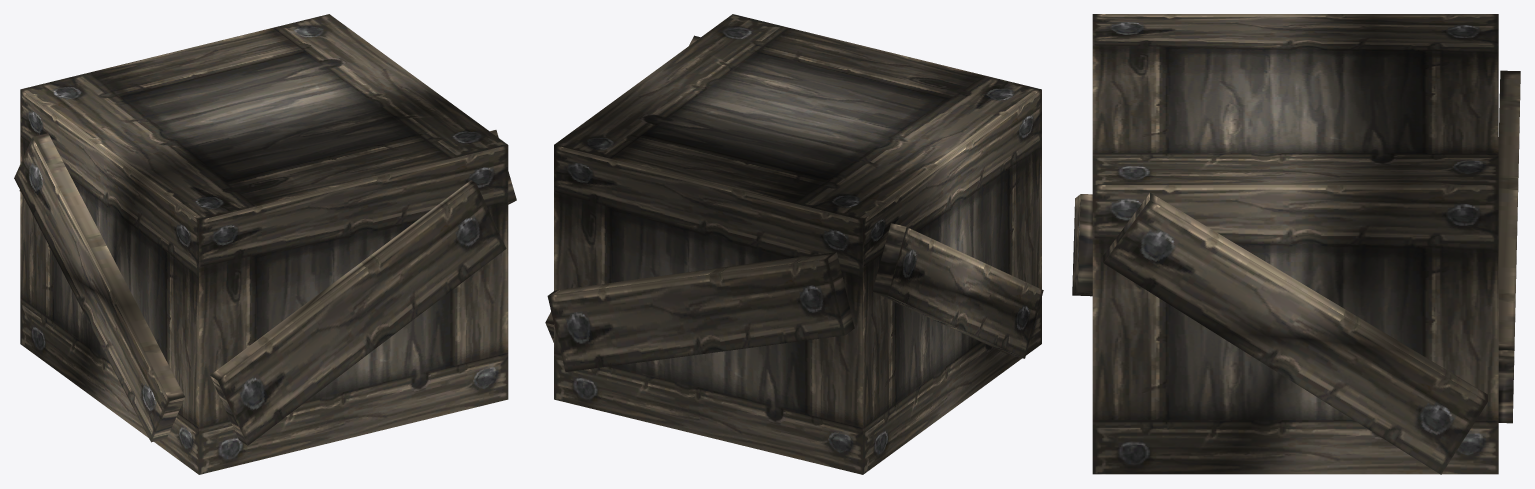
File: karazahncrate02.obj
3 views of the same model, side by side, from view 1: azimuth 30°, elevation 25°; view 2: azimuth 150°, elevation 25°; view 3: azimuth 270°, elevation 25° (orthographic). The views are drawn at different scales.
Parts seen in each view (by area): view 1: KARAZAHNCRATE020; view 2: KARAZAHNCRATE020; view 3: KARAZAHNCRATE020.
Part boxes in pixels (x1=…): KARAZAHNCRATE020: x1=14, y1=14, x2=516, y2=474; KARAZAHNCRATE020: x1=545, y1=14, x2=1043, y2=474; KARAZAHNCRATE020: x1=1072, y1=14, x2=1520, y2=474.
Bounding box in the file's own units: 1.22 × 0.8789 × 1.24.
1 material, 1 textured.
